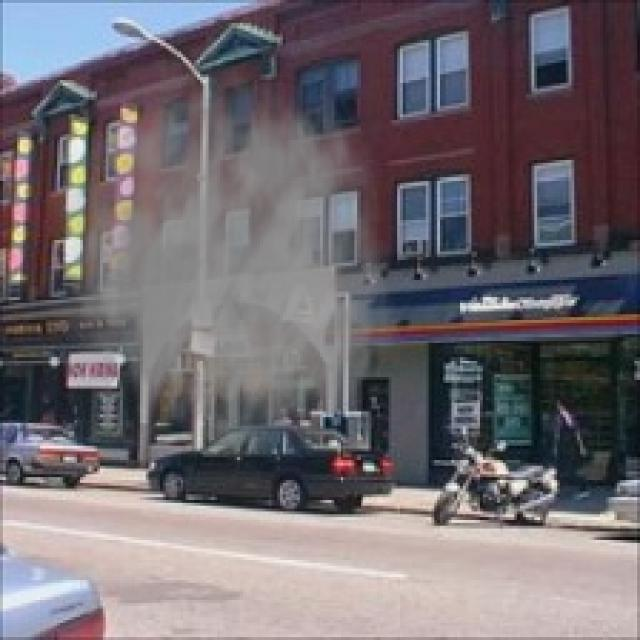Smoke: (40, 34, 400, 460)
